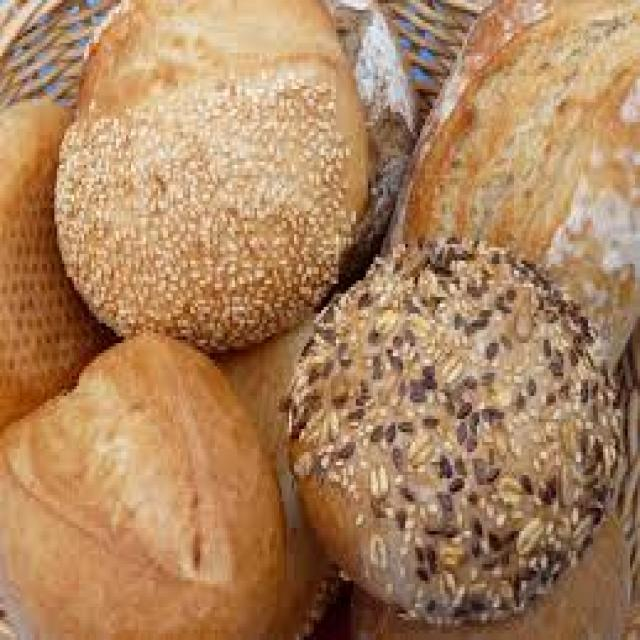organic waste: (279, 237, 618, 624), (0, 310, 343, 636), (49, 0, 366, 350), (370, 0, 637, 369), (348, 482, 626, 636), (0, 96, 104, 419)
